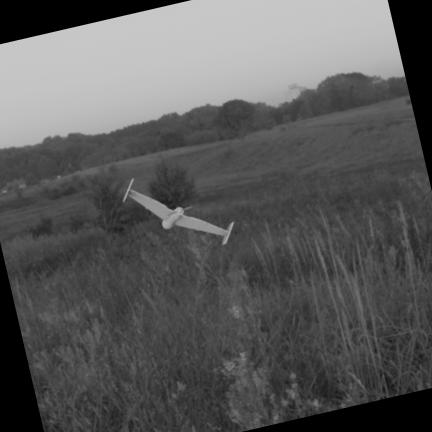Shahed: (123, 179, 233, 244)
